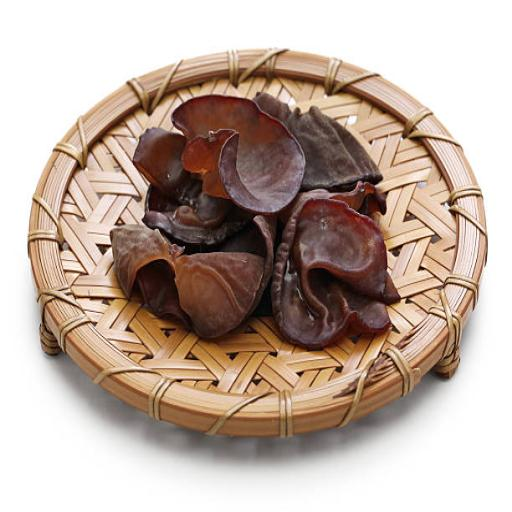Wood Ear Mushroom: (115, 90, 403, 355)
